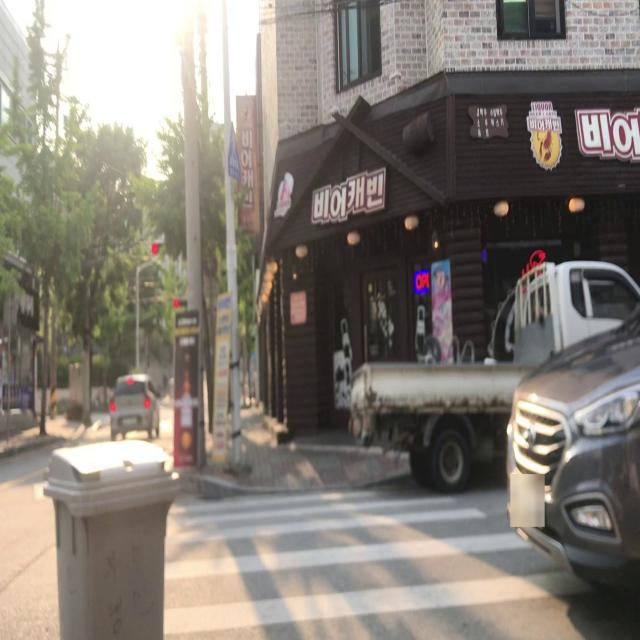횡단보도: (162, 485, 596, 637)
